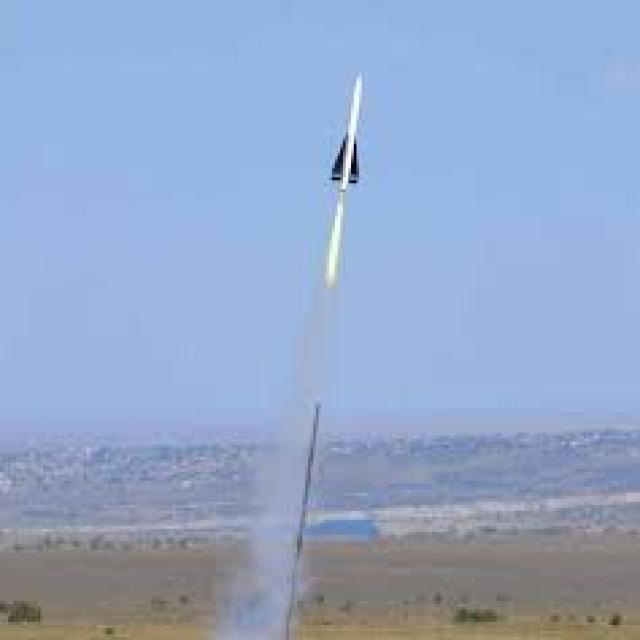Rocket: (328, 71, 370, 189)
